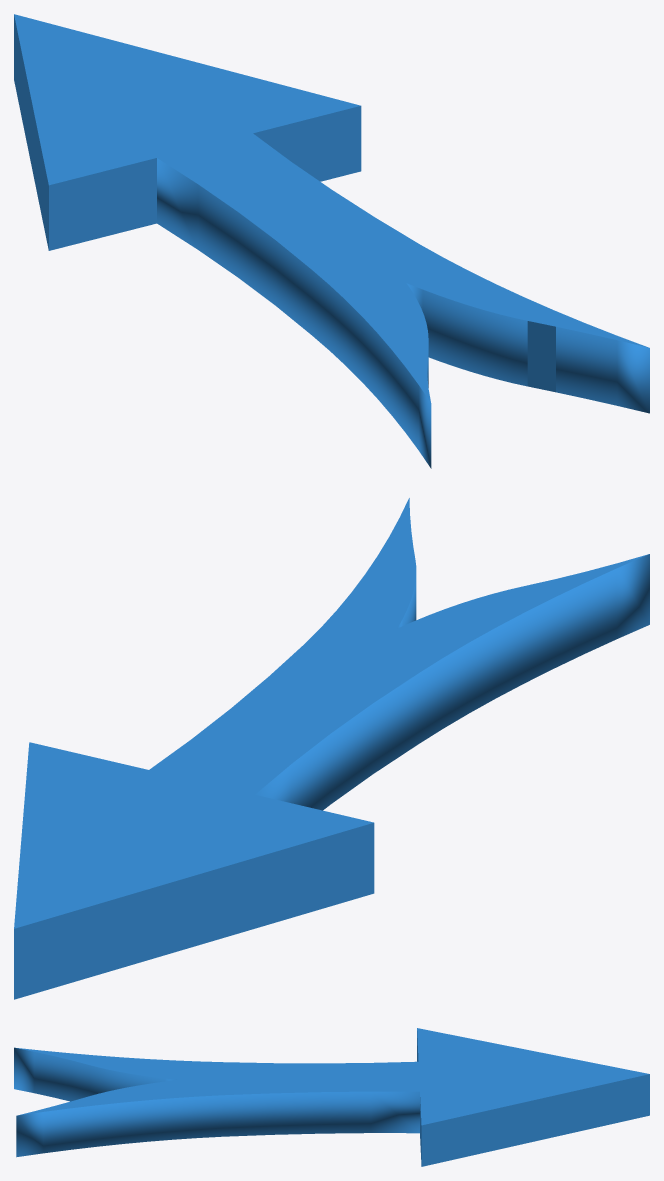
File: arrow56.dae
The picture shows the model from 3 angles, top to bottom: view 1: azimuth 30°, elevation 25°; view 2: azimuth 150°, elevation 25°; view 3: azimuth 270°, elevation 25°; orthographic projection. The views are drawn at different scales.
Visible parts, largest first — view 1: Mesh_; view 2: Mesh_; view 3: Mesh_.
Part boxes in pixels (x1,y1,x2,y2): Mesh_: [14, 14, 649, 468]; Mesh_: [14, 498, 649, 999]; Mesh_: [14, 1028, 649, 1166].
Bounding box in the file's own units: 6.76 × 18.65 × 1.34.
